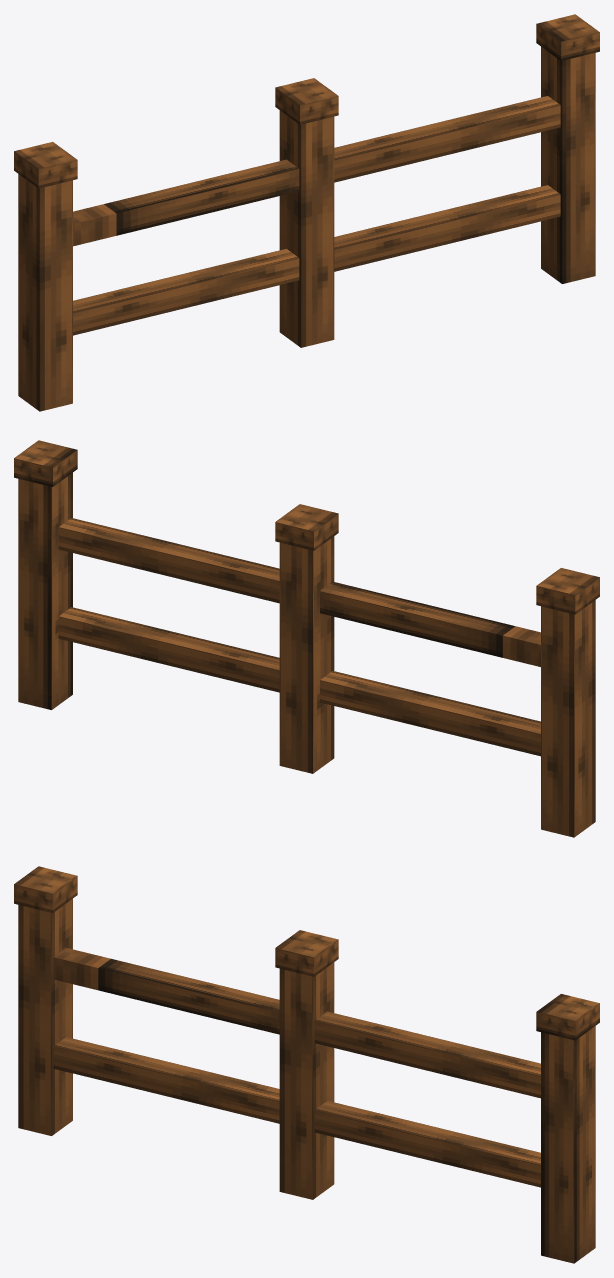
Rendered from SM_HP_Fence_LOD2.fbx.
3 renders of one model, top to bottom at view 1: azimuth 30°, elevation 25°; view 2: azimuth 150°, elevation 25°; view 3: azimuth 330°, elevation 25°, orthographic.
Visible parts, largest first — view 1: SM_HP_Fence_LOD2; view 2: SM_HP_Fence_LOD2; view 3: SM_HP_Fence_LOD2.
Boxes of the visible parts, <box> form: SM_HP_Fence_LOD2: <box>14,14,599,411</box>; SM_HP_Fence_LOD2: <box>14,440,599,837</box>; SM_HP_Fence_LOD2: <box>14,866,599,1263</box>.
Bounding box in the file's own units: 3.03 × 0.23 × 1.26.
Materials: 1 (1 with a texture image).
